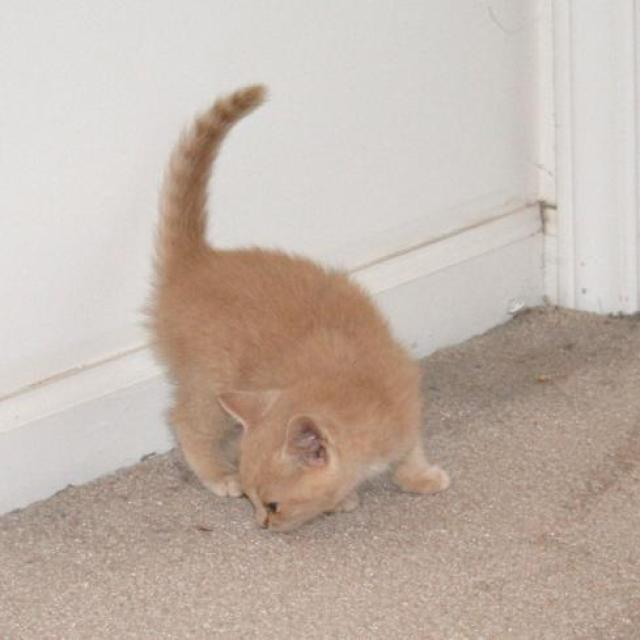Cat: (142, 80, 452, 532)
